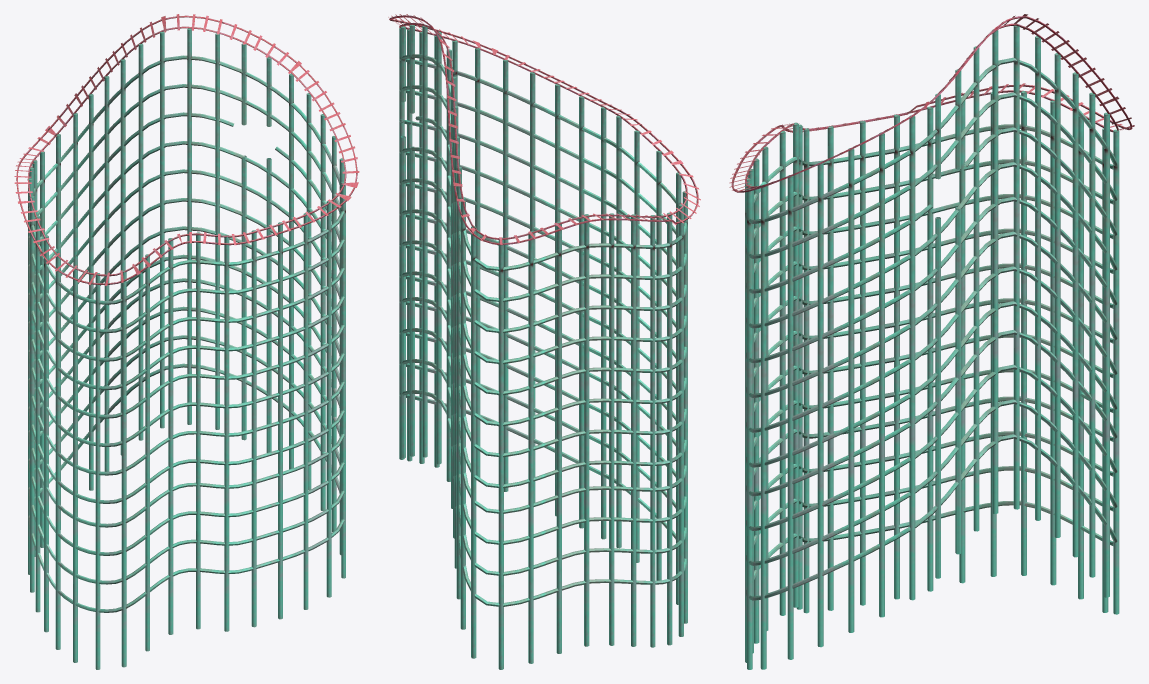
File: RailLast.fbx
3 renders of one model, left to right at view 1: azimuth 30°, elevation 25°; view 2: azimuth 150°, elevation 25°; view 3: azimuth 270°, elevation 25°, orthographic. The views are drawn at different scales.
Parts seen in each view (by area): view 1: Cylinder096, Box738; view 2: Cylinder096, Box738; view 3: Cylinder096, Box738.
Part boxes in pixels (box(x1,y1,x2,y2)): Cylinder096: box(28, 28, 345, 669); Box738: box(14, 14, 359, 285); Cylinder096: box(399, 25, 687, 669); Box738: box(388, 14, 700, 245); Cylinder096: box(745, 25, 1119, 669); Box738: box(729, 14, 1134, 192).
Bounding box in the file's own units: 1622 × 3220 × 1722.
